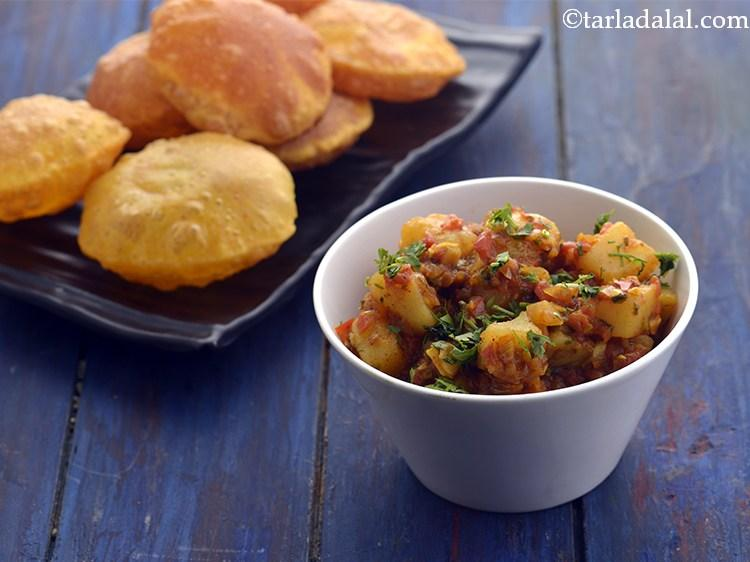puri: (1, 6, 493, 180)
